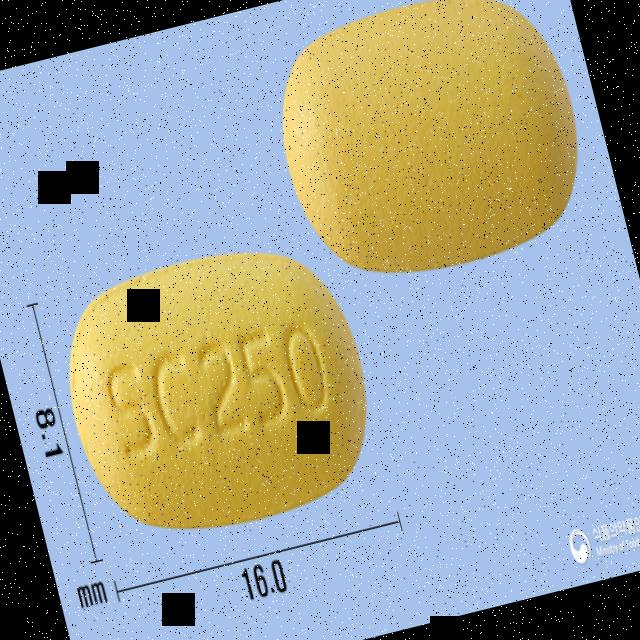Ceclacin: (41, 218, 397, 564)
